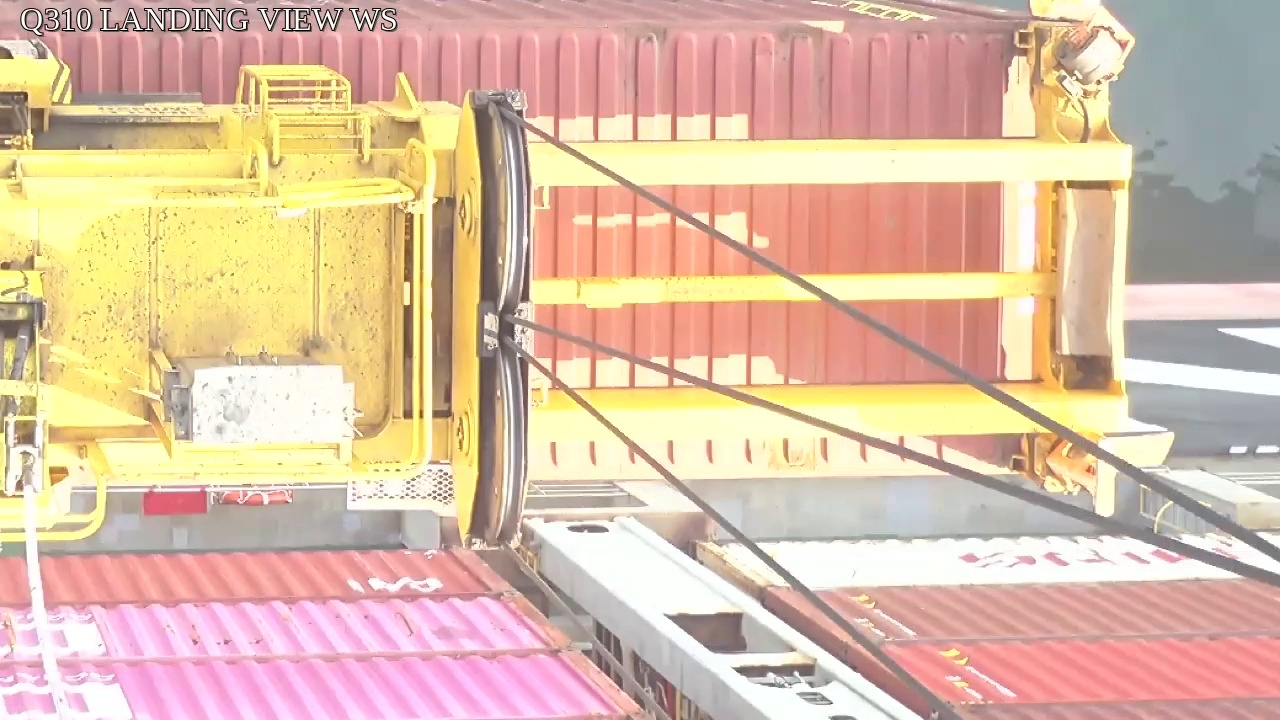right: (452, 90, 527, 553)
